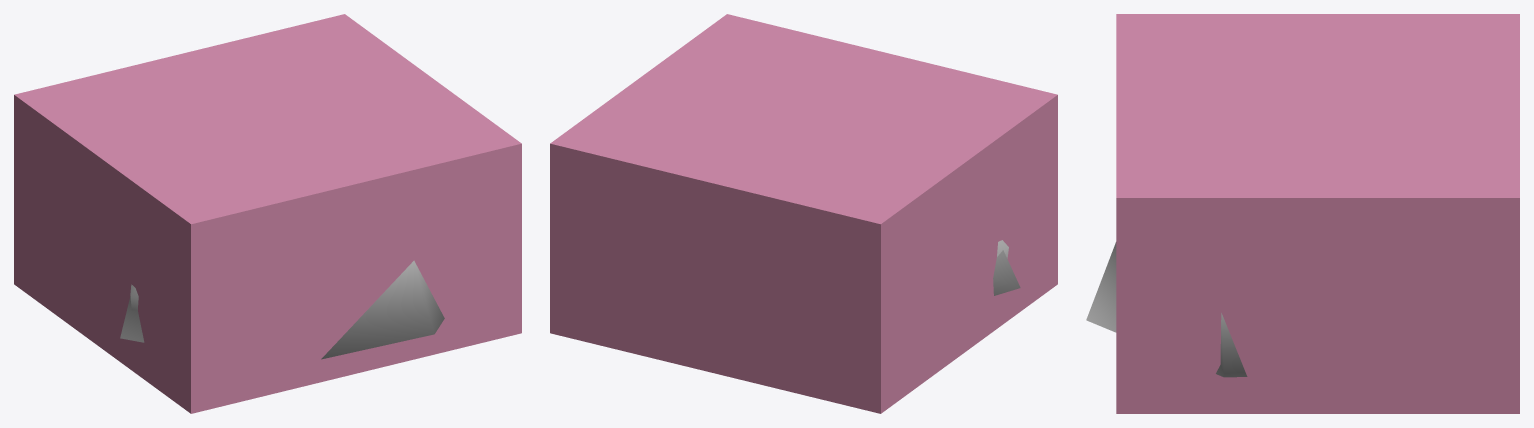
Rendered from rock_01_a_small_b.dae.
3 renders of one model, left to right at view 1: azimuth 30°, elevation 25°; view 2: azimuth 150°, elevation 25°; view 3: azimuth 270°, elevation 25°, orthographic. The views are drawn at different scales.
Parts seen in each view (by area): view 1: Untitled, tree_oak_bush_a35; view 2: Untitled, tree_oak_bush_a35; view 3: Untitled, tree_oak_bush_a35.
Part boxes in pixels (x1=…): Untitled: x1=14, y1=14, x2=521, y2=413; tree_oak_bush_a35: x1=120, y1=260, x2=444, y2=359; Untitled: x1=550, y1=14, x2=1057, y2=413; tree_oak_bush_a35: x1=993, y1=250, x2=1020, y2=295; Untitled: x1=1116, y1=14, x2=1519, y2=413; tree_oak_bush_a35: x1=1086, y1=242, x2=1247, y2=377.
Size of the model in its own units: 0.436 by 0.4057 by 0.223.
